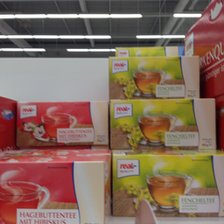tea: (1, 152, 112, 224), (110, 150, 224, 220), (110, 98, 217, 152), (15, 101, 109, 150), (108, 55, 200, 97)
